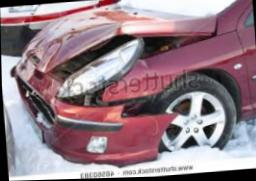Bonnet: (21, 4, 218, 78)
Bumper: (10, 57, 174, 166)
Light: (56, 40, 143, 97)
